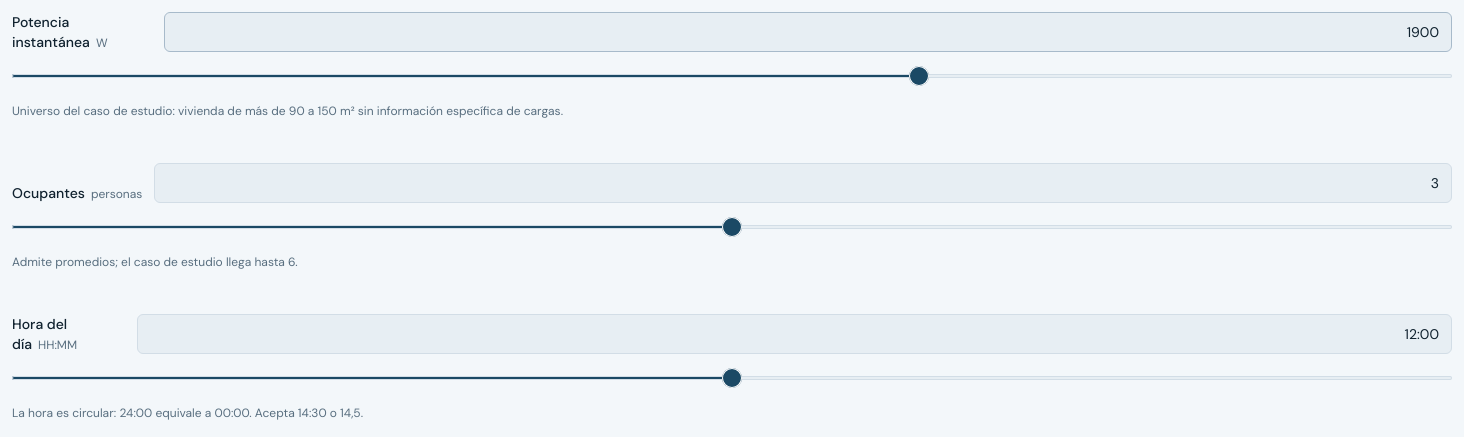
Test: EntradasPanel › sincroniza el slider con el campo de texto
The width and height of the screenshot is (1464, 437).
Replace the text in the field labelled "Potencia instantánea" with "2500" at (808, 32), box [164,12,1452,52]
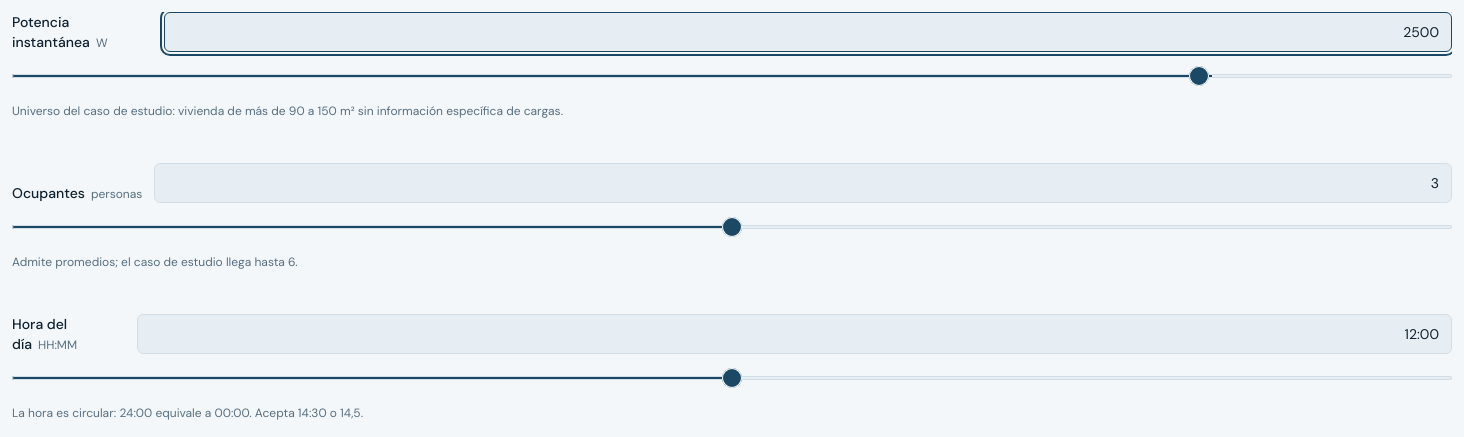
Result: the slider named "Potencia instantánea" holds "2500" at [12,56,1452,96]
